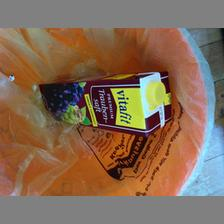Saft: (38, 69, 174, 137)
